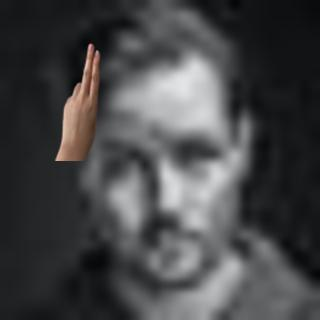DHAVE: (53, 40, 103, 156)
